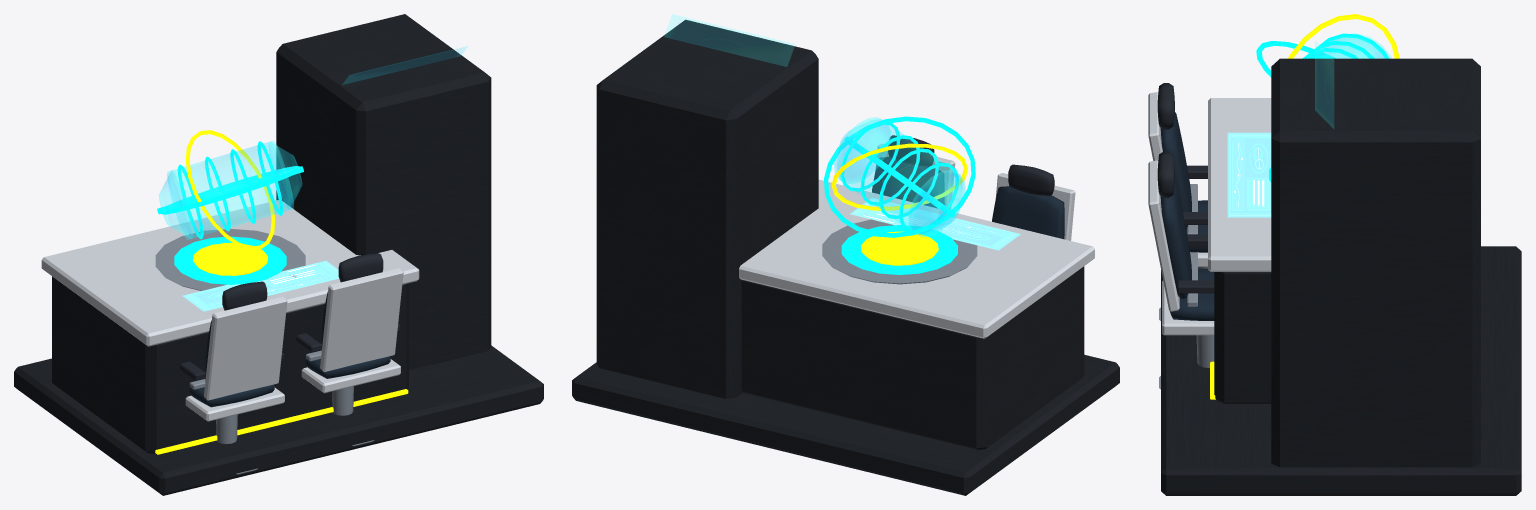
Rendered from bridge_console_r1_01.glb.
3 views of the same model, side by side, from view 1: azimuth 30°, elevation 25°; view 2: azimuth 150°, elevation 25°; view 3: azimuth 270°, elevation 25° (orthographic). The views are drawn at different scales.
Visible parts, largest first — view 1: Bridge01_OctagonalGunmetalHull, Bridge01_AerospaceWhiteCowlingsAndChairs, Bridge01_TranslucentHoloCylinderAndHUD, Bridge01_CyanHoloWireframeAndCarts, Bridge01_AmberGimbalRingAndBaseLED, Bridge01_MachinedSteelGantryAndThrottles, Bridge01_CharcoalBolstersAndPads, Bridge01_OLEDSpinTelemetryScreens, Bridge01_OrbitalNavyChairCushions; view 2: Bridge01_OctagonalGunmetalHull, Bridge01_AerospaceWhiteCowlingsAndChairs, Bridge01_TranslucentHoloCylinderAndHUD, Bridge01_CyanHoloWireframeAndCarts, Bridge01_OrbitalNavyChairCushions, Bridge01_AmberGimbalRingAndBaseLED, Bridge01_MachinedSteelGantryAndThrottles, Bridge01_OLEDSpinTelemetryScreens, Bridge01_CharcoalBolstersAndPads; view 3: Bridge01_OctagonalGunmetalHull, Bridge01_AerospaceWhiteCowlingsAndChairs, Bridge01_OrbitalNavyChairCushions, Bridge01_OLEDSpinTelemetryScreens, Bridge01_CharcoalBolstersAndPads, Bridge01_TranslucentHoloCylinderAndHUD, Bridge01_CyanHoloWireframeAndCarts, Bridge01_MachinedSteelGantryAndThrottles, Bridge01_AmberGimbalRingAndBaseLED.
Boxes of the visible parts, <box> form: Bridge01_OctagonalGunmetalHull: <box>14,14,543,495</box>; Bridge01_AerospaceWhiteCowlingsAndChairs: <box>41,200,419,421</box>; Bridge01_TranslucentHoloCylinderAndHUD: <box>159,46,467,239</box>; Bridge01_CyanHoloWireframeAndCarts: <box>157,141,303,284</box>; Bridge01_AmberGimbalRingAndBaseLED: <box>155,130,408,454</box>; Bridge01_MachinedSteelGantryAndThrottles: <box>155,228,374,474</box>; Bridge01_CharcoalBolstersAndPads: <box>180,253,400,380</box>; Bridge01_OLEDSpinTelemetryScreens: <box>182,260,339,311</box>; Bridge01_OrbitalNavyChairCushions: <box>189,292,390,407</box>; Bridge01_OctagonalGunmetalHull: <box>572,19,1119,495</box>; Bridge01_AerospaceWhiteCowlingsAndChairs: <box>739,143,1094,338</box>; Bridge01_TranslucentHoloCylinderAndHUD: <box>664,14,965,236</box>; Bridge01_CyanHoloWireframeAndCarts: <box>824,116,975,274</box>; Bridge01_OrbitalNavyChairCushions: <box>872,157,1064,239</box>; Bridge01_AmberGimbalRingAndBaseLED: <box>831,143,967,265</box>; Bridge01_MachinedSteelGantryAndThrottles: <box>822,219,977,284</box>; Bridge01_OLEDSpinTelemetryScreens: <box>850,198,1020,250</box>; Bridge01_CharcoalBolstersAndPads: <box>888,135,1054,196</box>; Bridge01_OctagonalGunmetalHull: <box>1161,58,1521,495</box>; Bridge01_AerospaceWhiteCowlingsAndChairs: <box>1148,92,1271,335</box>; Bridge01_OrbitalNavyChairCushions: <box>1160,112,1214,320</box>; Bridge01_OLEDSpinTelemetryScreens: <box>1227,132,1271,217</box>; Bridge01_CharcoalBolstersAndPads: <box>1157,83,1214,293</box>; Bridge01_TranslucentHoloCylinderAndHUD: <box>1311,33,1391,128</box>; Bridge01_CyanHoloWireframeAndCarts: <box>1256,33,1388,181</box>; Bridge01_MachinedSteelGantryAndThrottles: <box>1159,184,1214,389</box>; Bridge01_AmberGimbalRingAndBaseLED: <box>1210,14,1399,399</box>.
Bounding box in the file's own units: 2.45 × 1.92 × 1.71.
Materials: 11 (11 with a texture image).
